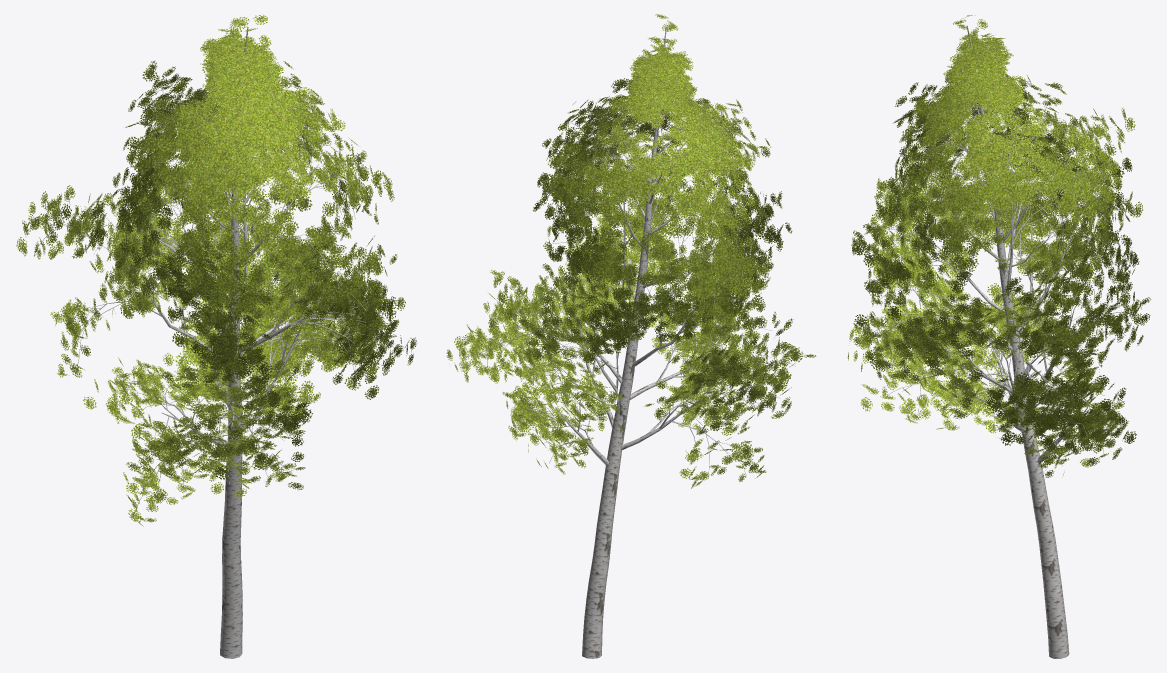
File: tree-birch.glb
3 renders of one model, left to right at view 1: azimuth 30°, elevation 25°; view 2: azimuth 150°, elevation 25°; view 3: azimuth 270°, elevation 25°, orthographic. The views are drawn at different scales.
Parts seen in each view (by area): view 1: leaves, bark; view 2: leaves, bark; view 3: leaves, bark.
Boxes of the visible parts, <box> form: leaves: <box>16,14,416,526</box>; bark: <box>38,27,399,658</box>; leaves: <box>446,14,816,488</box>; bark: <box>459,28,795,658</box>; leaves: <box>847,15,1151,477</box>; bark: <box>862,25,1135,658</box>.
Size of the model in its own units: 9.05 by 17.09 by 7.58.
Materials: 2 (2 with a texture image).
